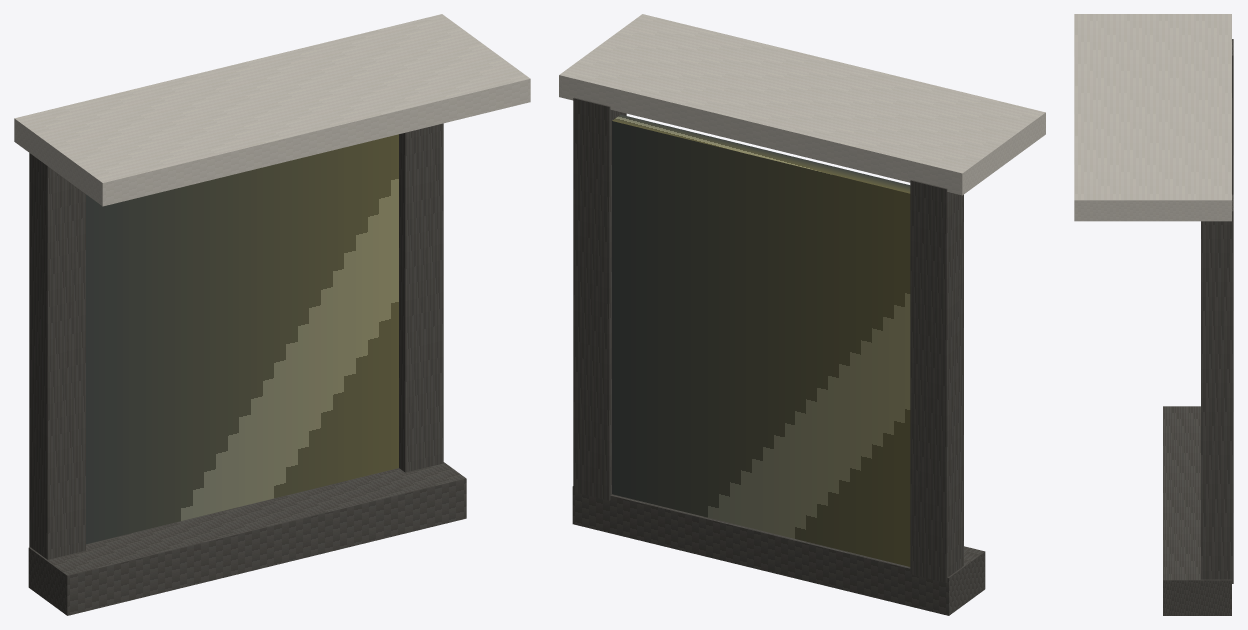
File: portal-modern-lod1.glb
3 views of the same model, side by side, from view 1: azimuth 30°, elevation 25°; view 2: azimuth 150°, elevation 25°; view 3: azimuth 270°, elevation 25° (orthographic). The views are drawn at different scales.
Visible parts, largest first — view 1: portal-modern-lod1; view 2: portal-modern-lod1; view 3: portal-modern-lod1.
Part boxes in pixels (x1,y1,x2,y2): portal-modern-lod1: [14, 14, 530, 615]; portal-modern-lod1: [559, 14, 1045, 615]; portal-modern-lod1: [1074, 14, 1233, 615].
Size of the model in its own units: 2.68 by 2.83 by 0.97.
1 material, 1 textured.
